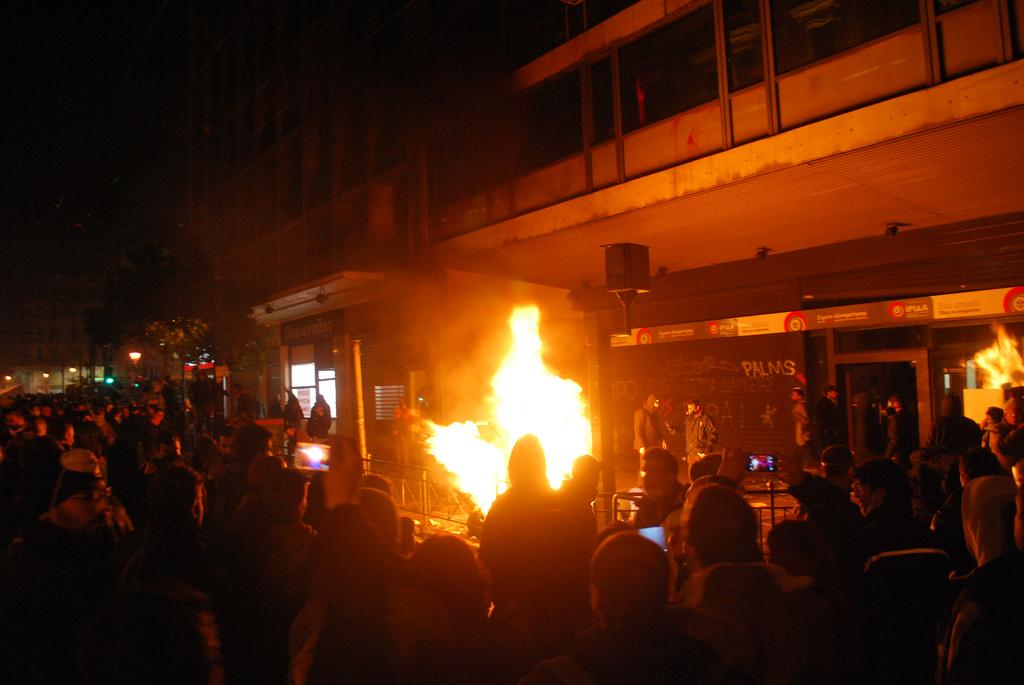fire: (497, 353, 585, 458), (440, 437, 505, 485)
